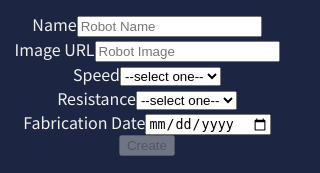
Scenario: Given a NewRobot component › When all inputs are filled › Then the submit button shouldn't be disabled and it's action performed on click and disable the button again
In the field labelled "Name": (169, 26) [77,16,262,37], type "joselito"
In the field labelled "Image URL": (187, 52) [94,41,280,62], type "joselito"
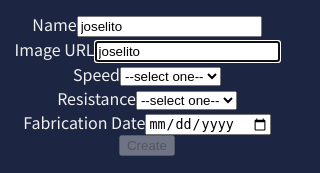
Select "4" in the dropdown labelled "Speed": (170, 76) [120,67,221,86]
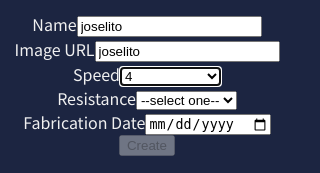
Select "4" in the dropdown labelled "Resistance": (186, 100) [136,91,237,110]
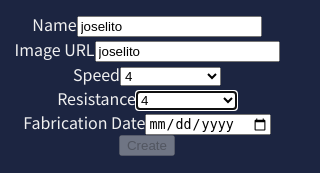
In the date field labelled "Fabrication Date": (208, 124) [145,114,271,135], type "2020-01-15"
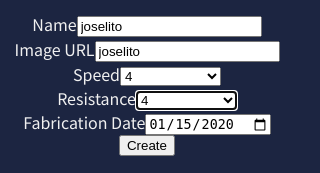
In the field labelled "Name": (169, 26) [77,16,262,37], type " htdthd"
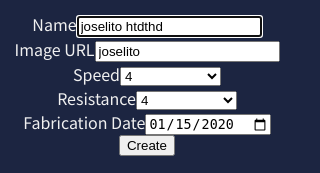
Check: the button is enabled
Click the button: (147, 146) [119,135,175,156]
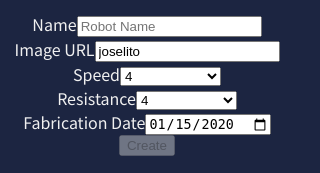
Check: the button is disabled, box [119,135,175,156]
